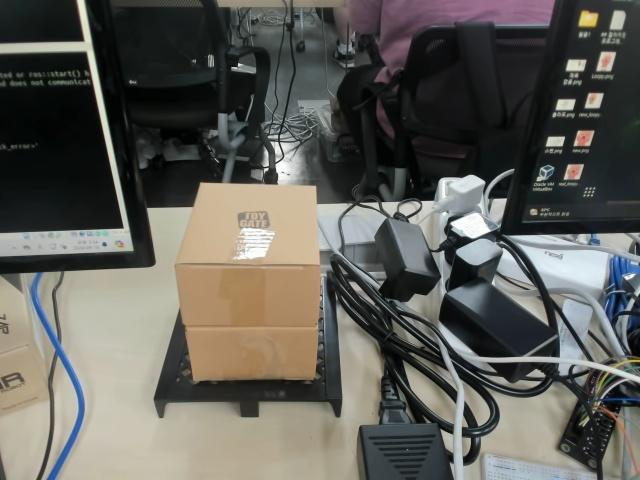box: (154, 182, 344, 422)
